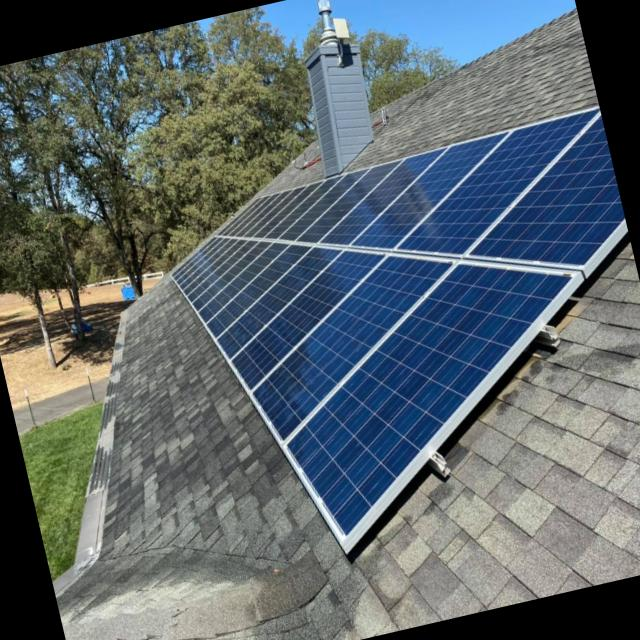no faulty: (169, 108, 622, 539)
